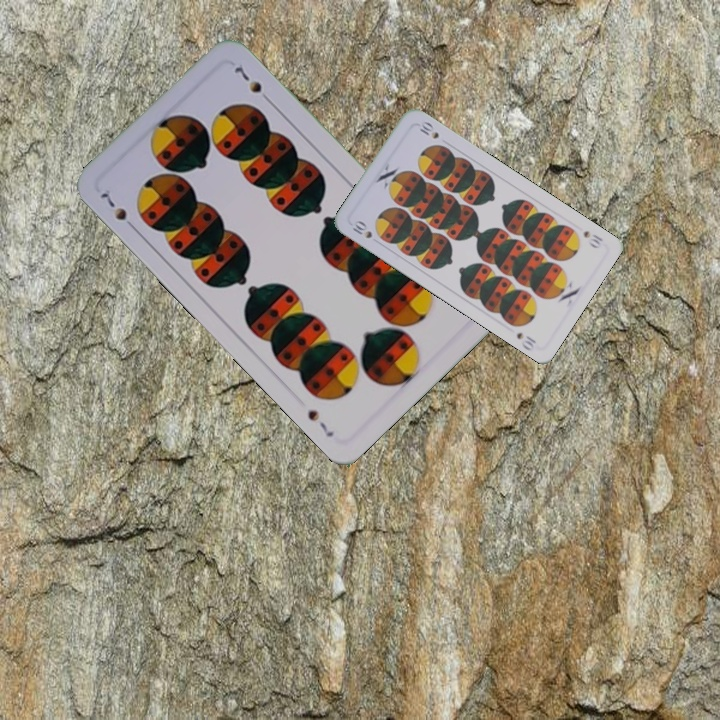S10: (347, 216, 375, 241), (579, 227, 605, 251)
S7: (96, 186, 139, 234)
